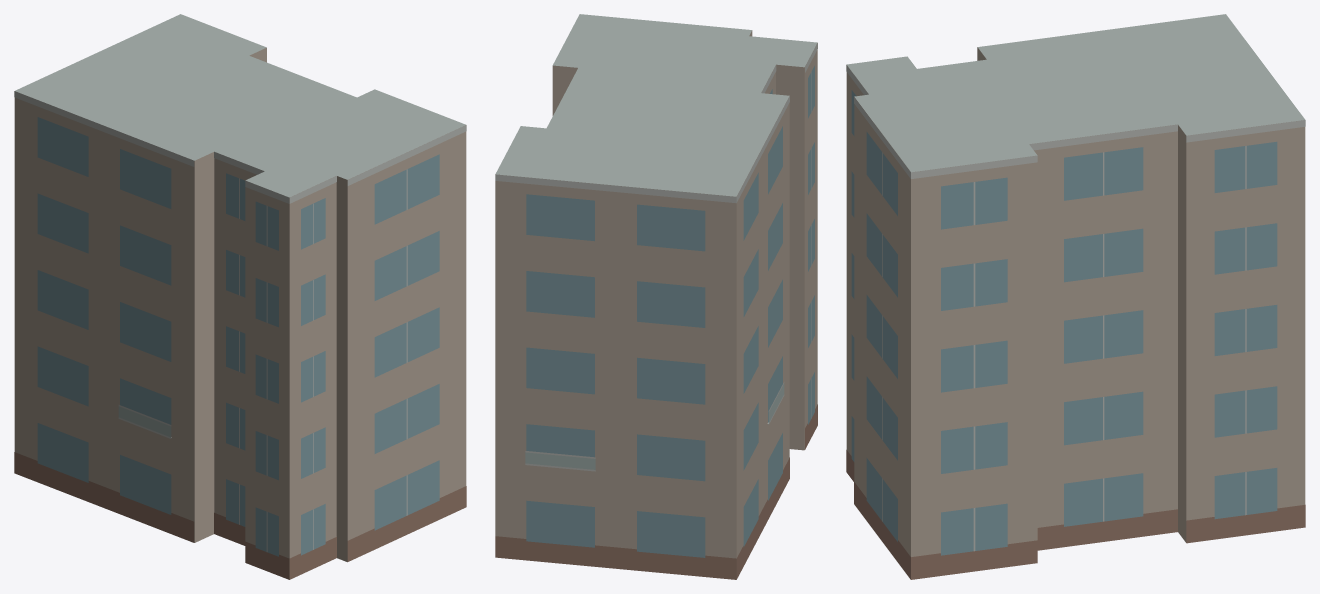
Rendered from survey-upis-32958531.glb.
3 views of the same model, side by side, from view 1: azimuth 30°, elevation 25°; view 2: azimuth 150°, elevation 25°; view 3: azimuth 270°, elevation 25° (orthographic). The views are drawn at different scales.
Visible parts, largest first — view 1: survey-upis-32958531.tmp; view 2: survey-upis-32958531.tmp; view 3: survey-upis-32958531.tmp.
Boxes of the visible parts, x1=… form: survey-upis-32958531.tmp: x1=14, y1=14, x2=466, y2=579; survey-upis-32958531.tmp: x1=495, y1=14, x2=817, y2=579; survey-upis-32958531.tmp: x1=846, y1=14, x2=1305, y2=579.
Bounding box in the file's own units: 12.05 × 14.45 × 14.76.
